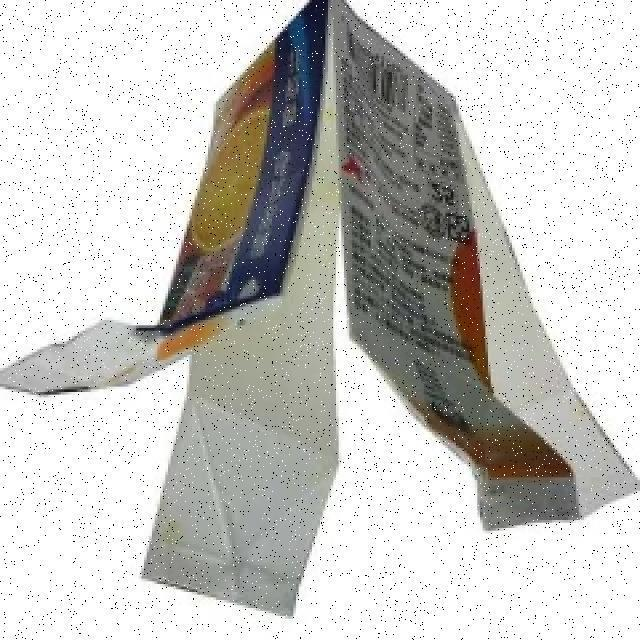box: (24, 13, 640, 627)
